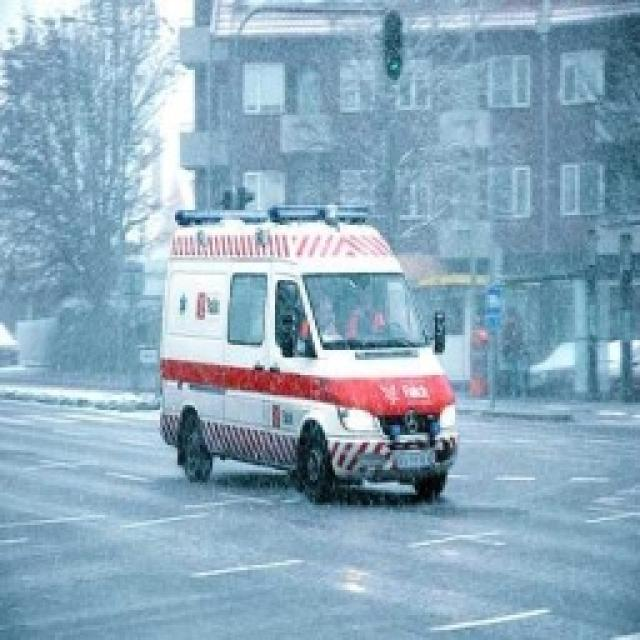emergency-vehicle: (158, 202, 466, 511)
